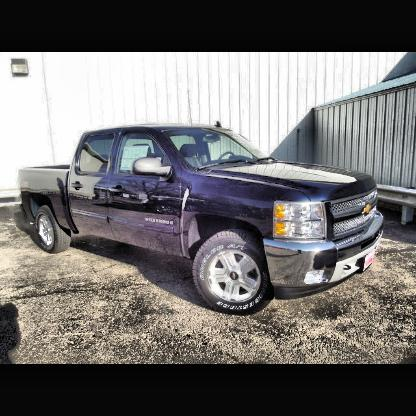Chevrolet Silverado 1500 Hybrid Crew Cab 2012: (20, 128, 386, 318)
